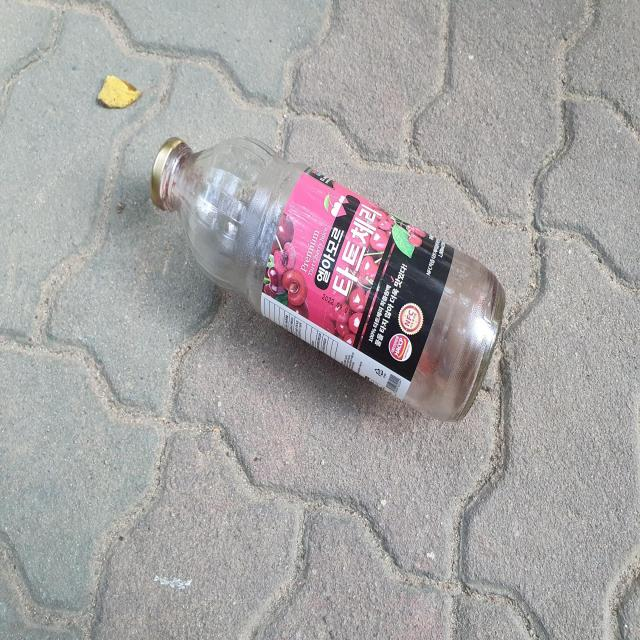glass: (150, 136, 506, 421)
